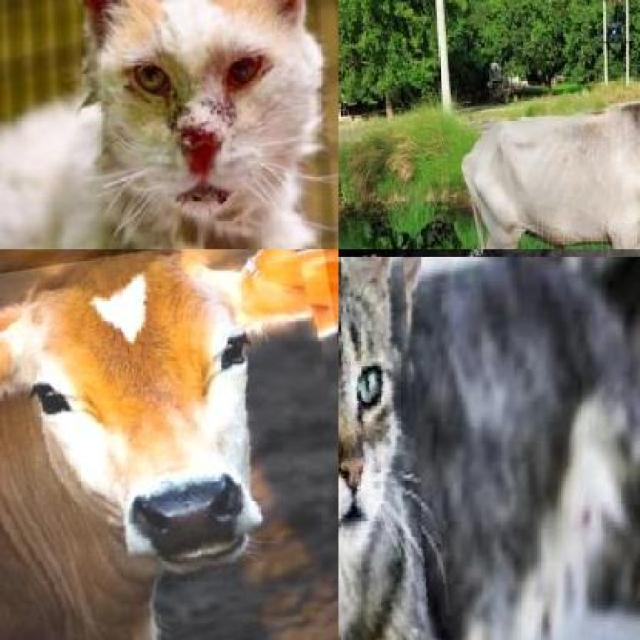cat: (0, 0, 338, 249), (338, 257, 457, 640)
cow: (0, 249, 338, 640), (451, 100, 640, 249)
injured: (173, 88, 232, 185)
